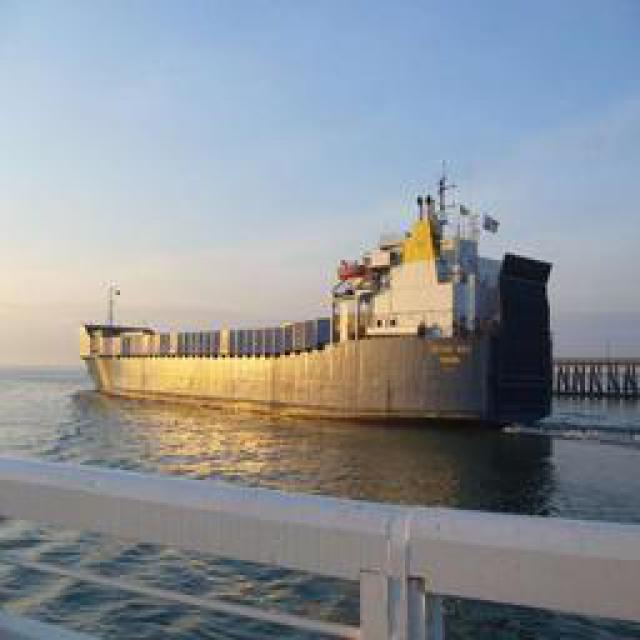Ship: (85, 159, 555, 422)
